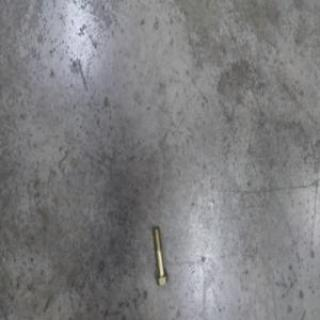Bolttrack_idkeyframe: (151, 226, 169, 287)
